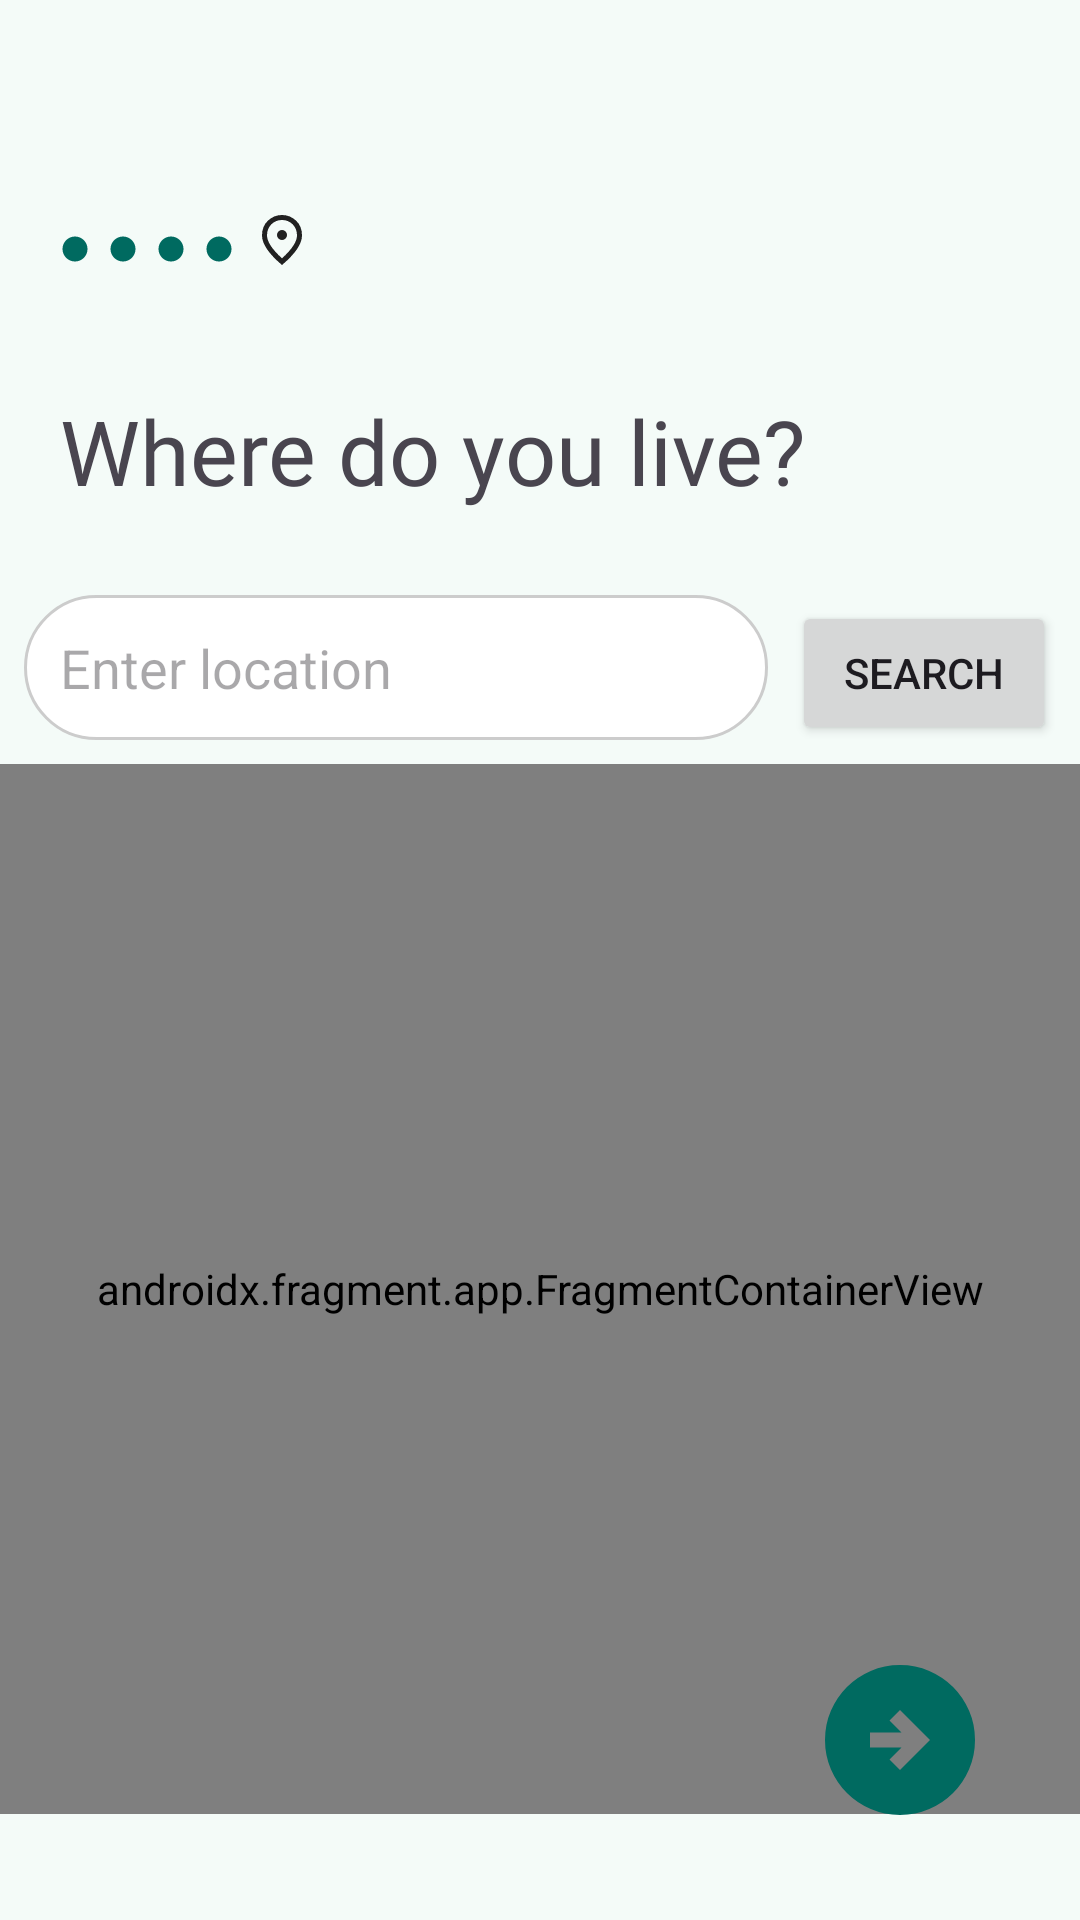

Icon bounding boxes for this 1080 × 1920 phone screenshot, format (left=x1, top=y1, right=x2, bottom=y2):
location: (left=262, top=215, right=302, bottom=265)
next: (left=810, top=1665, right=990, bottom=1830)
